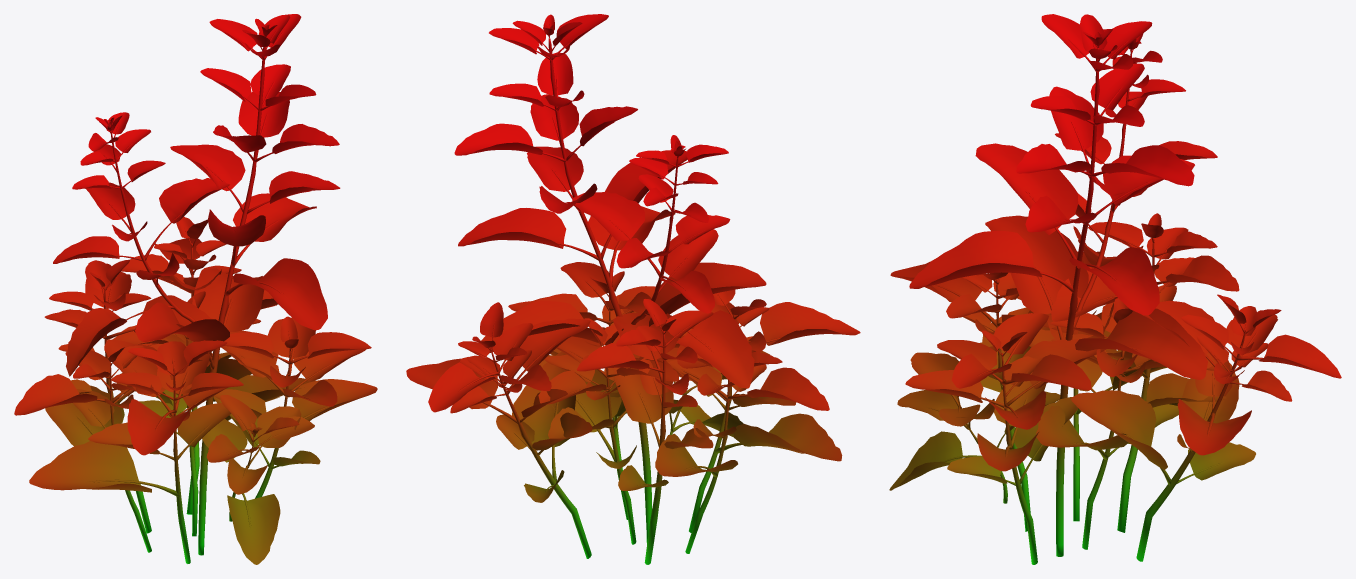
Rendered from Lemon Balm_LOD0_Var3_umslacdia.fbx.
3 views of the same model, side by side, from view 1: azimuth 30°, elevation 25°; view 2: azimuth 150°, elevation 25°; view 3: azimuth 270°, elevation 25° (orthographic). The views are drawn at different scales.
Parts seen in each view (by area): view 1: _7ox0_Var3_LOD0; view 2: _7ox0_Var3_LOD0; view 3: _7ox0_Var3_LOD0.
Boxes of the visible parts, x1,y1,x2,y2 form: _7ox0_Var3_LOD0: (14, 14, 377, 564); _7ox0_Var3_LOD0: (406, 14, 860, 564); _7ox0_Var3_LOD0: (889, 14, 1341, 564).
Bounding box in the file's own units: 26.34 × 35.65 × 25.59.
